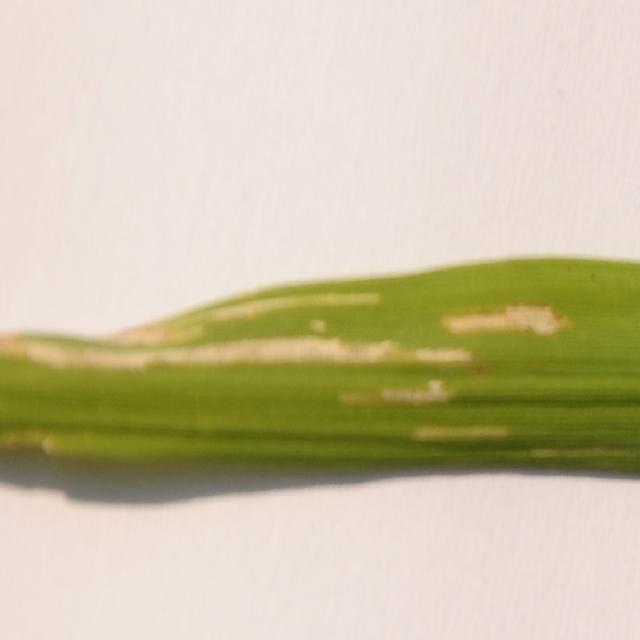Unhealthy: (0, 334, 475, 372), (105, 296, 380, 353), (443, 301, 571, 339), (337, 375, 457, 405), (519, 444, 640, 462), (3, 427, 57, 461), (414, 423, 507, 441), (308, 319, 326, 334)
